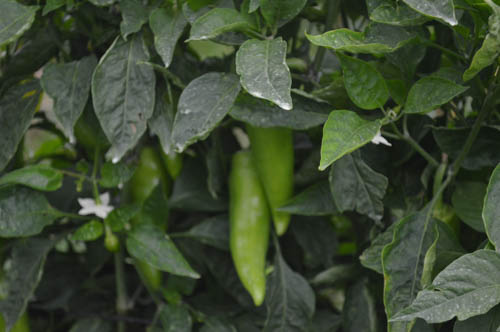ChiliPepper: (225, 154, 271, 316), (251, 109, 298, 237), (126, 153, 165, 286)
